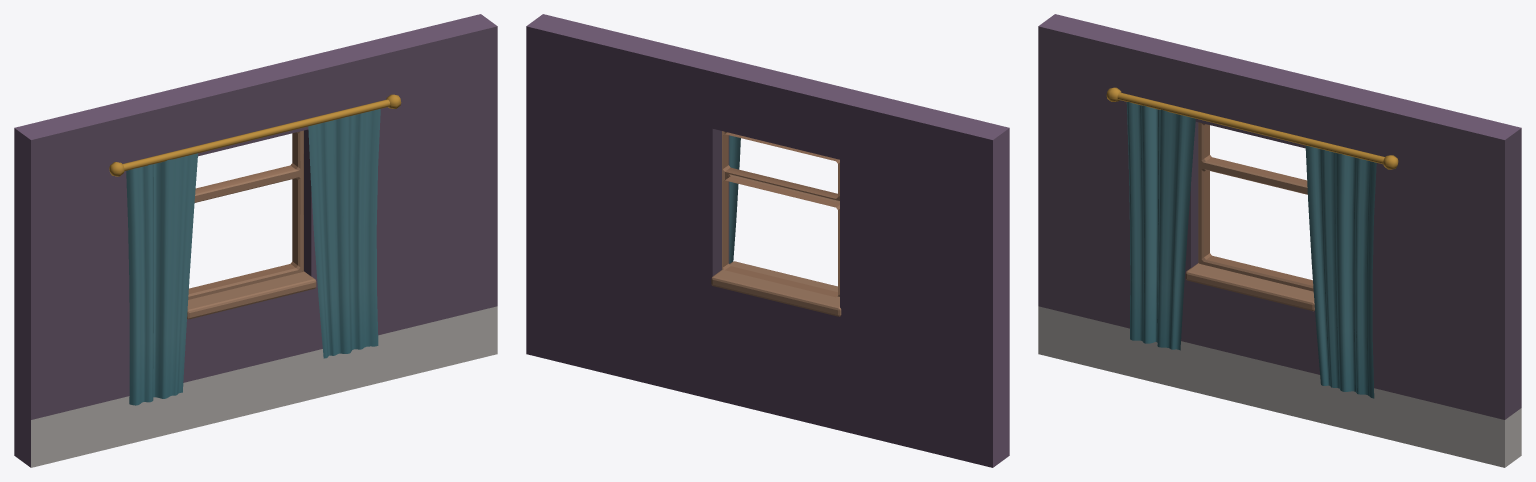
Rendered from left-wall.glb.
3 views of the same model, side by side, from view 1: azimuth 30°, elevation 25°; view 2: azimuth 150°, elevation 25°; view 3: azimuth 330°, elevation 25° (orthographic).
Visible parts, largest first — view 1: Box168; view 2: Box168; view 3: Box168.
Part boxes in pixels (box(x1,y1,x2,y2)): Box168: box(14, 14, 497, 467); Box168: box(526, 14, 1009, 467); Box168: box(1038, 14, 1521, 467).
Size of the model in its own units: 6.4 by 4.3 by 0.6416.
